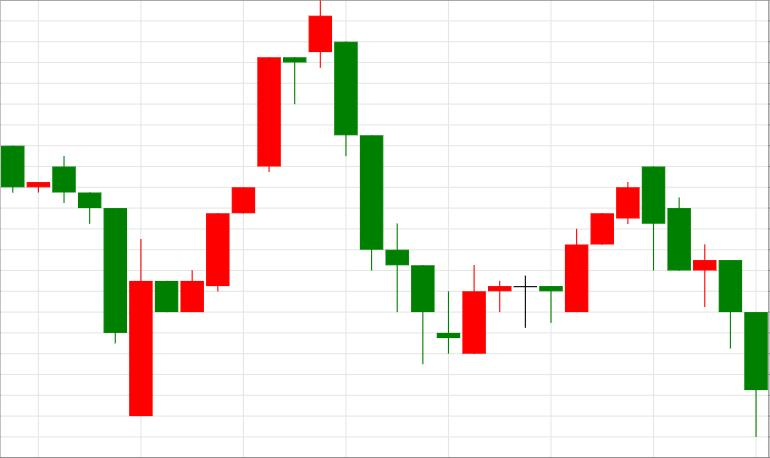bullish_engulfing_rise: (335, 41, 485, 363)
